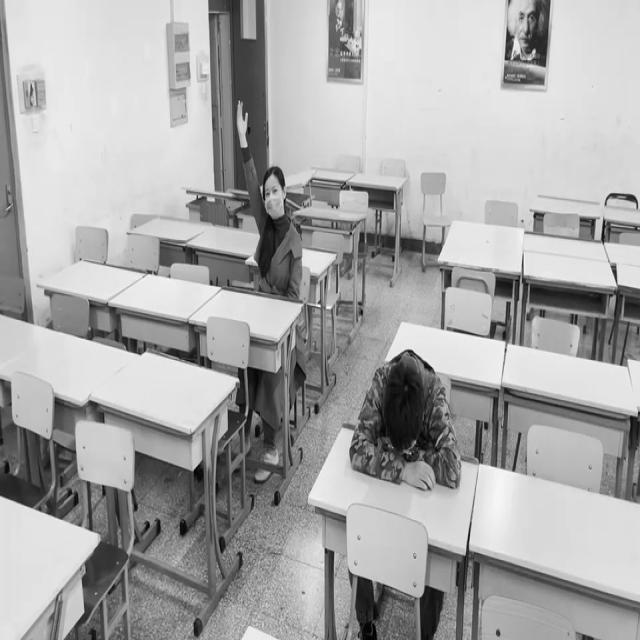sleep: (351, 348, 461, 488)
study: (237, 100, 302, 295)
